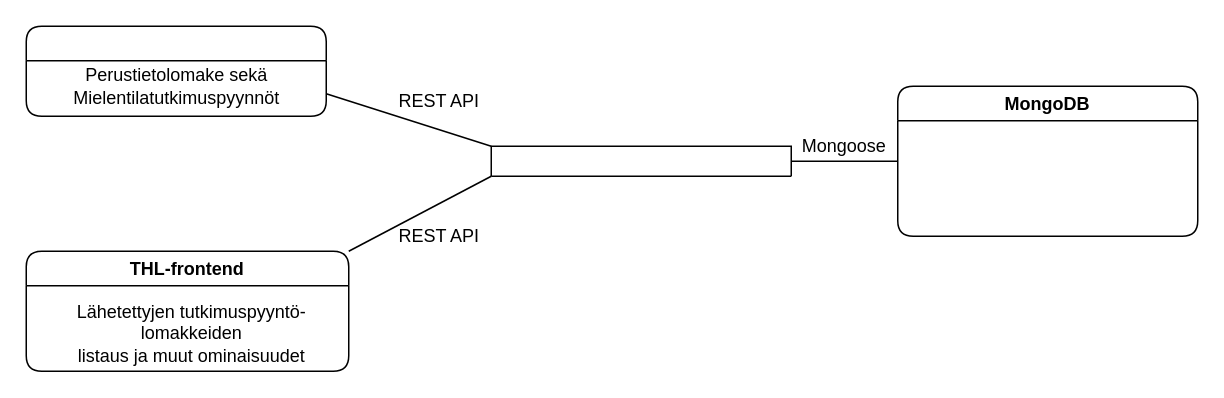
The diagram is 1224 pixels wide and 398 high, and some of its shapes have lost their labels. Each missing label, with the box of its shape:
backend: (490, 145, 791, 176)
mttp-frontend: (25, 25, 326, 116)
